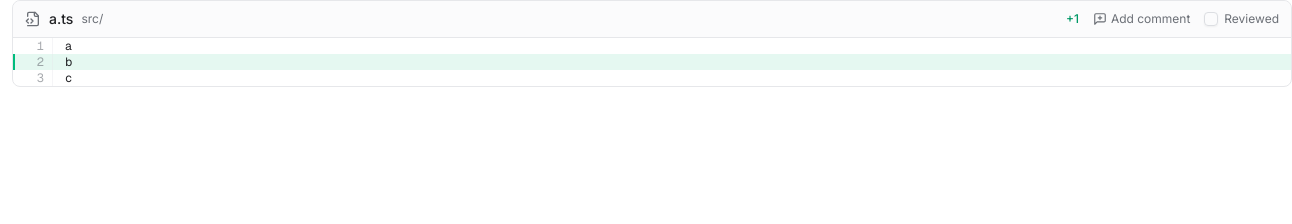
it: composer inline no diff › clique no número da linha abre o composer ancorado e posta com path + line
This screenshot has width=1292, height=224.
expect the field labelled "Comment on line 2" is not shown: met
Click the button named "Comment on line 2" at (33, 62), box [13,54,53,70]
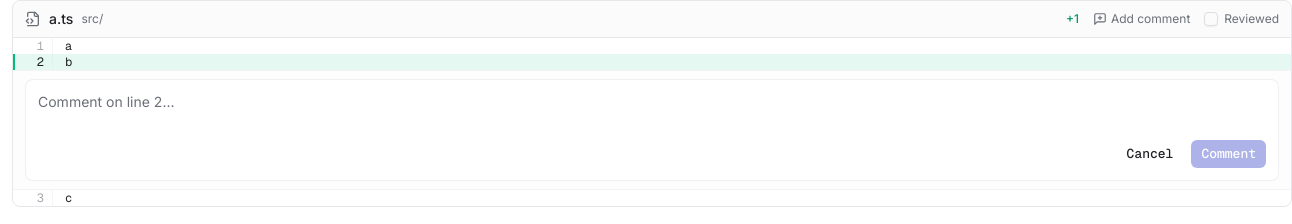
Type "why b?" into the text box labelled "Comment on line 2" at (652, 112), box [38,92,1266,132]
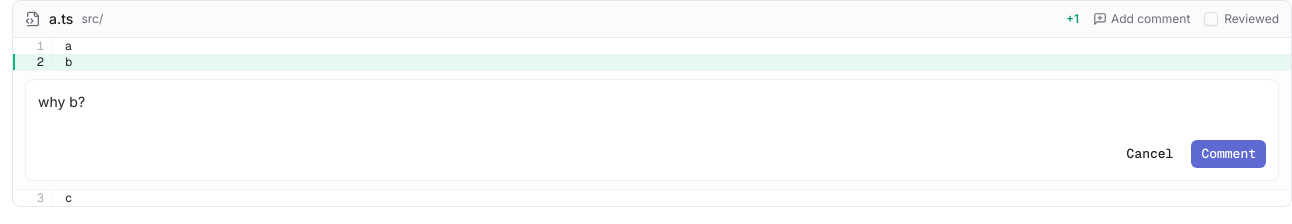
Click the button "Comment" at (1229, 154), box [1191,140,1266,168]
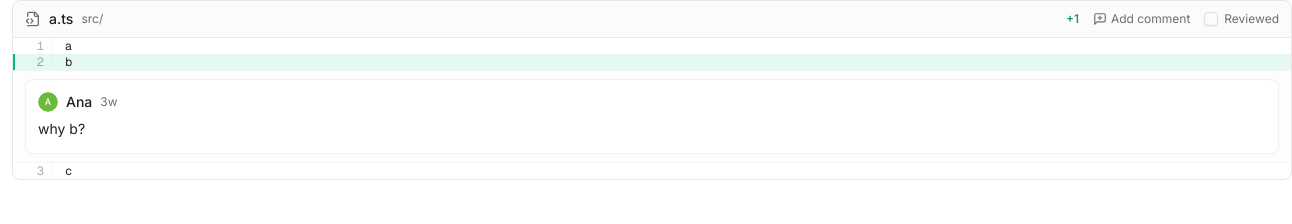
expect the field labelled "Comment on line 2" is not shown: met
expect the text "why b?" is shown: met, box [38,120,85,137]
